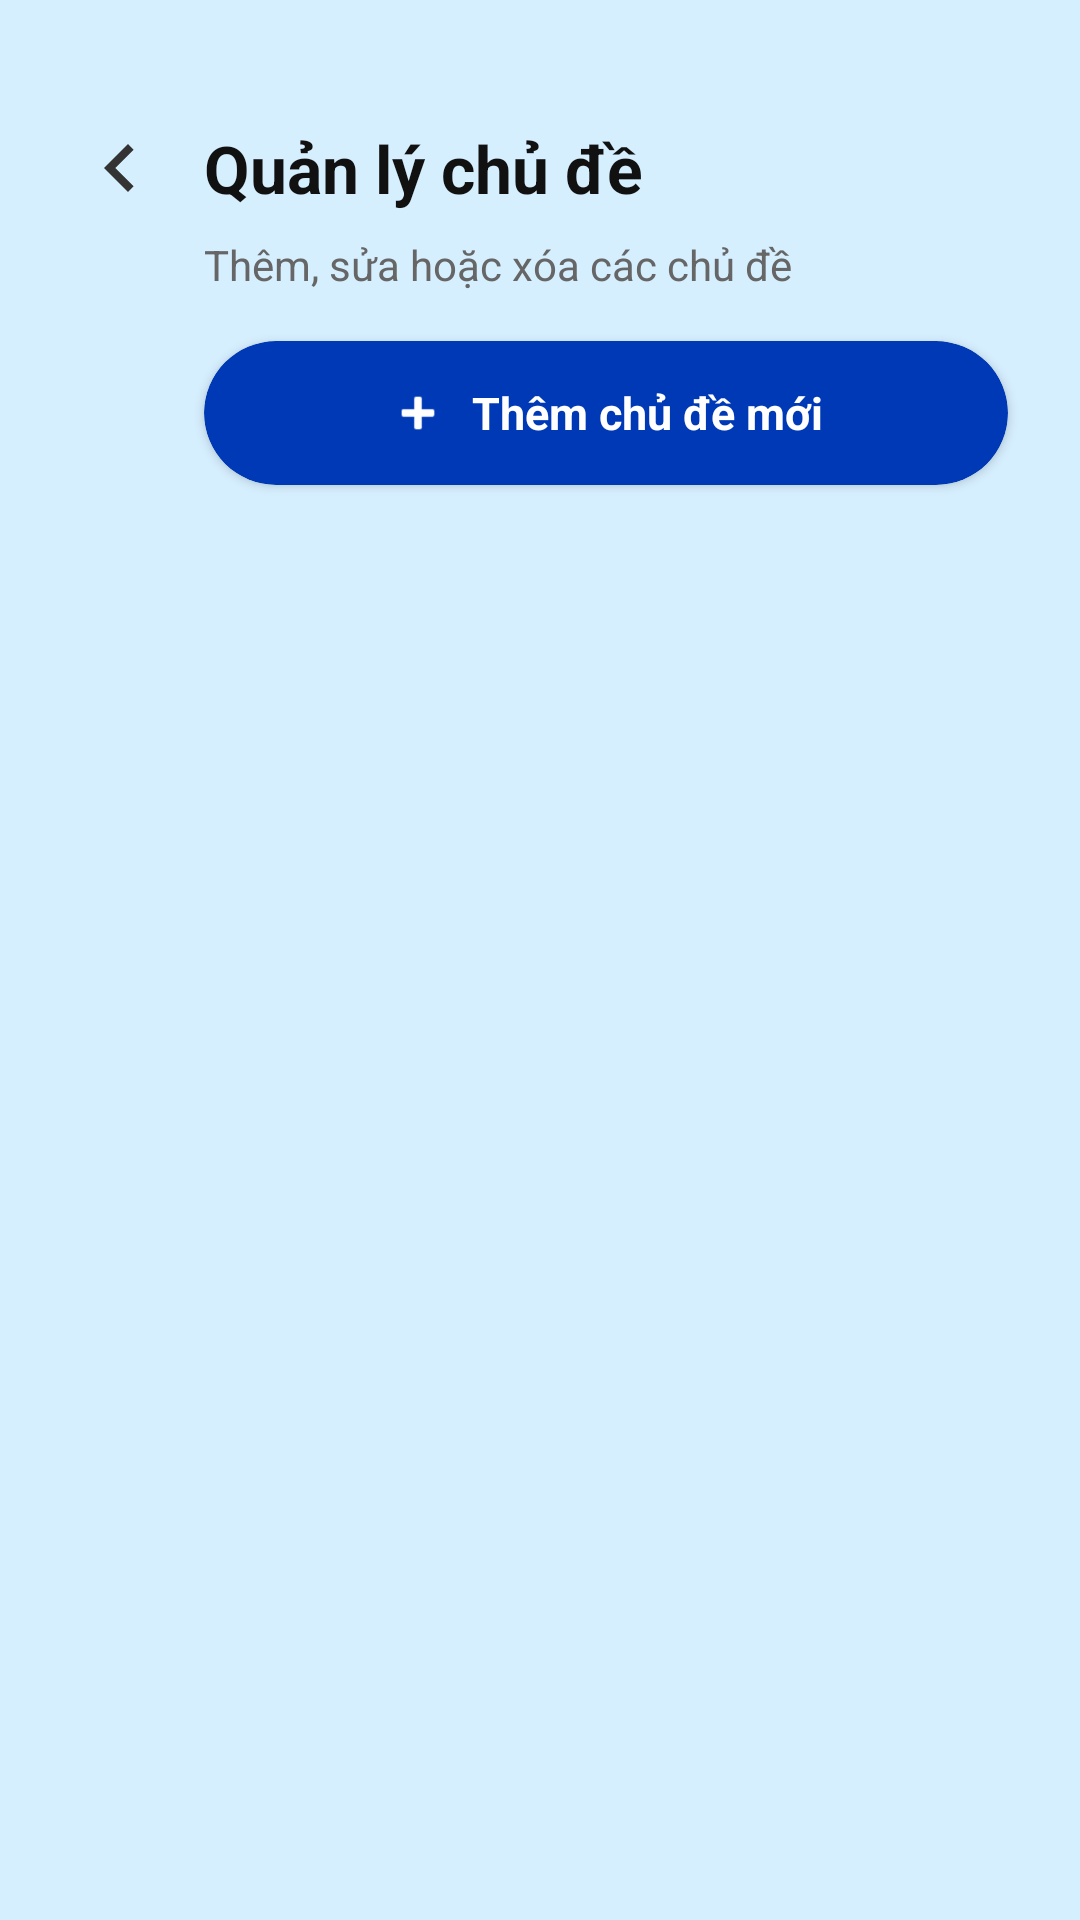

Icons on this 1080*1920 Android screen, each with its box as (x1, y1, x2, y2):
add: (401, 396, 435, 430)
back arrow: (104, 144, 134, 192)
